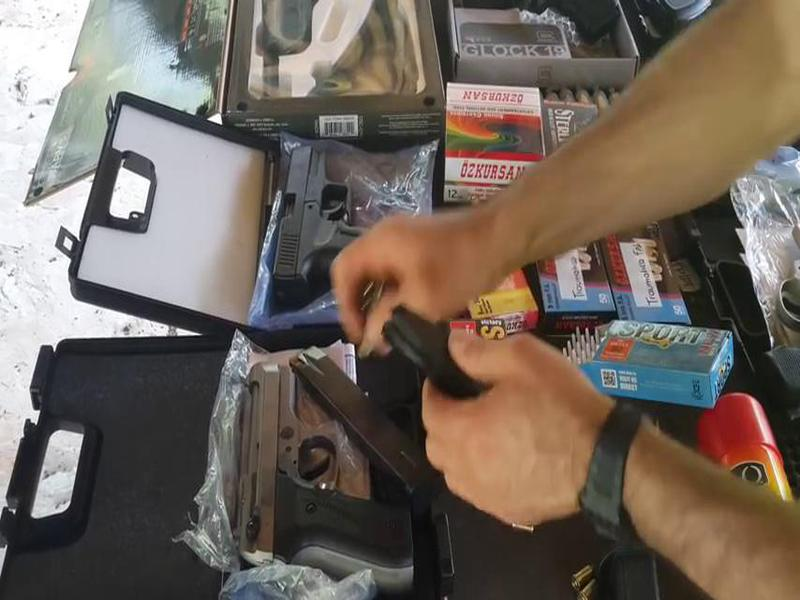Pistola: (231, 343, 433, 596)
